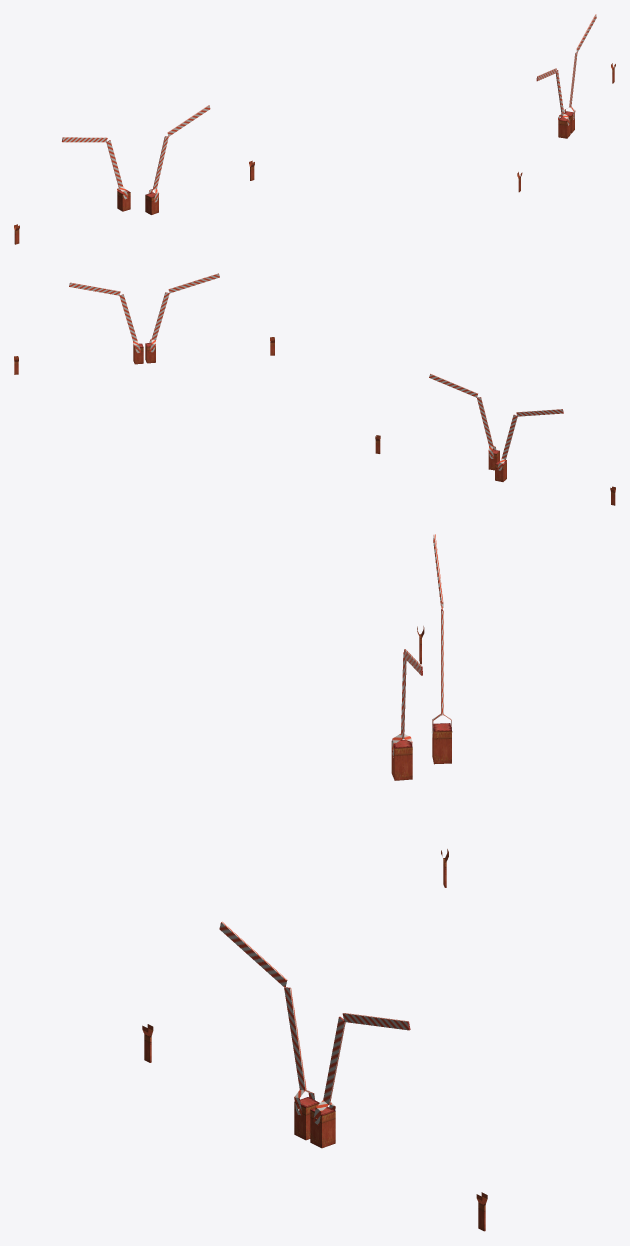
The model's file is aircarpkbarier_sfse.obj.
3 renders of one model, top to bottom at view 1: azimuth 30°, elevation 25°; view 2: azimuth 150°, elevation 25°; view 3: azimuth 270°, elevation 25°, orthographic. The views are drawn at different scales.
Parts seen in each view (by area): view 1: aircarpkbarier_SFSe; view 2: aircarpkbarier_SFSe; view 3: aircarpkbarier_SFSe.
Part boxes in pixels (<box>): aircarpkbarier_SFSe: <box>14,14,615,244</box>; aircarpkbarier_SFSe: <box>14,273,615,505</box>; aircarpkbarier_SFSe: <box>142,534,487,1231</box>.
Size of the model in its own units: 37.39 by 5.3 by 9.54.
Materials: 6 (6 with a texture image).
